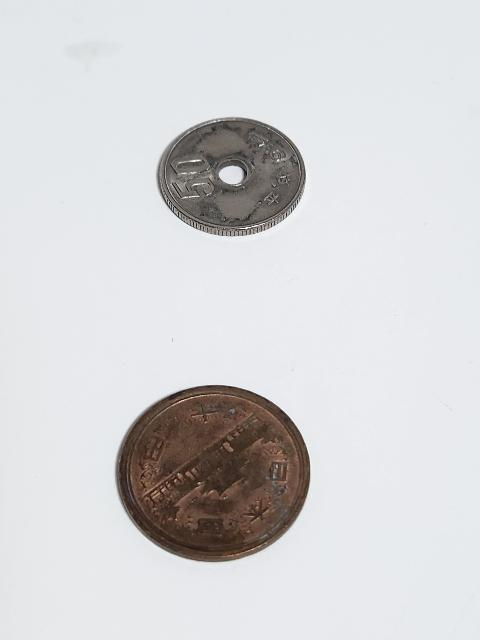coin: (117, 382, 311, 564), (156, 108, 308, 235)
